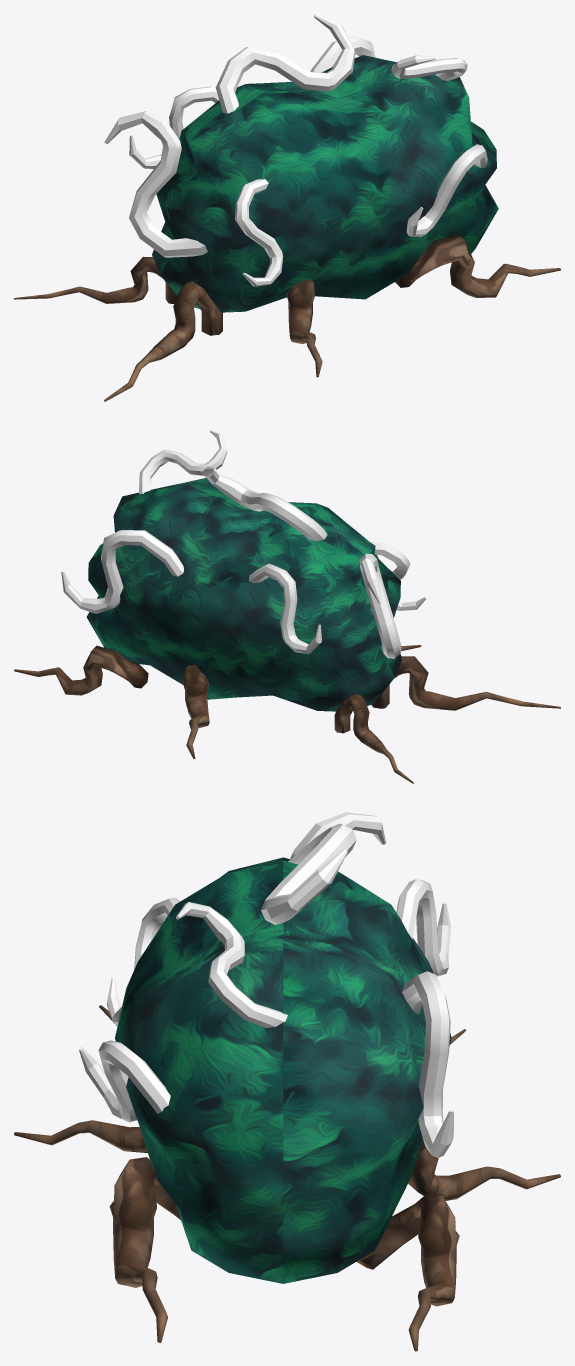
Rendered from Bush_Mutant_03.fbx.
The picture shows the model from 3 angles, top to bottom: view 1: azimuth 30°, elevation 25°; view 2: azimuth 150°, elevation 25°; view 3: azimuth 270°, elevation 25°; orthographic projection. The views are drawn at different scales.
Parts seen in each view (by area): view 1: Bush_Mutant4; view 2: Bush_Mutant4; view 3: Bush_Mutant4.
Boxes of the visible parts, x1,y1,x2,y2 form: Bush_Mutant4: (14, 14, 560, 401); Bush_Mutant4: (14, 430, 560, 783); Bush_Mutant4: (14, 812, 560, 1351).
Size of the model in its own units: 212 by 105 by 142.
